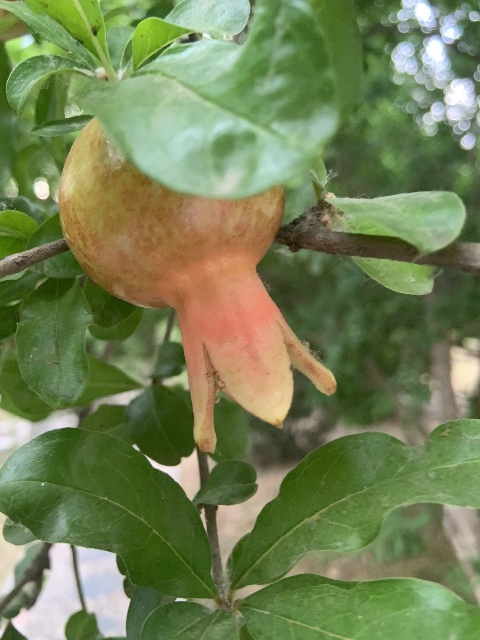early-fruit: (59, 117, 336, 453)
